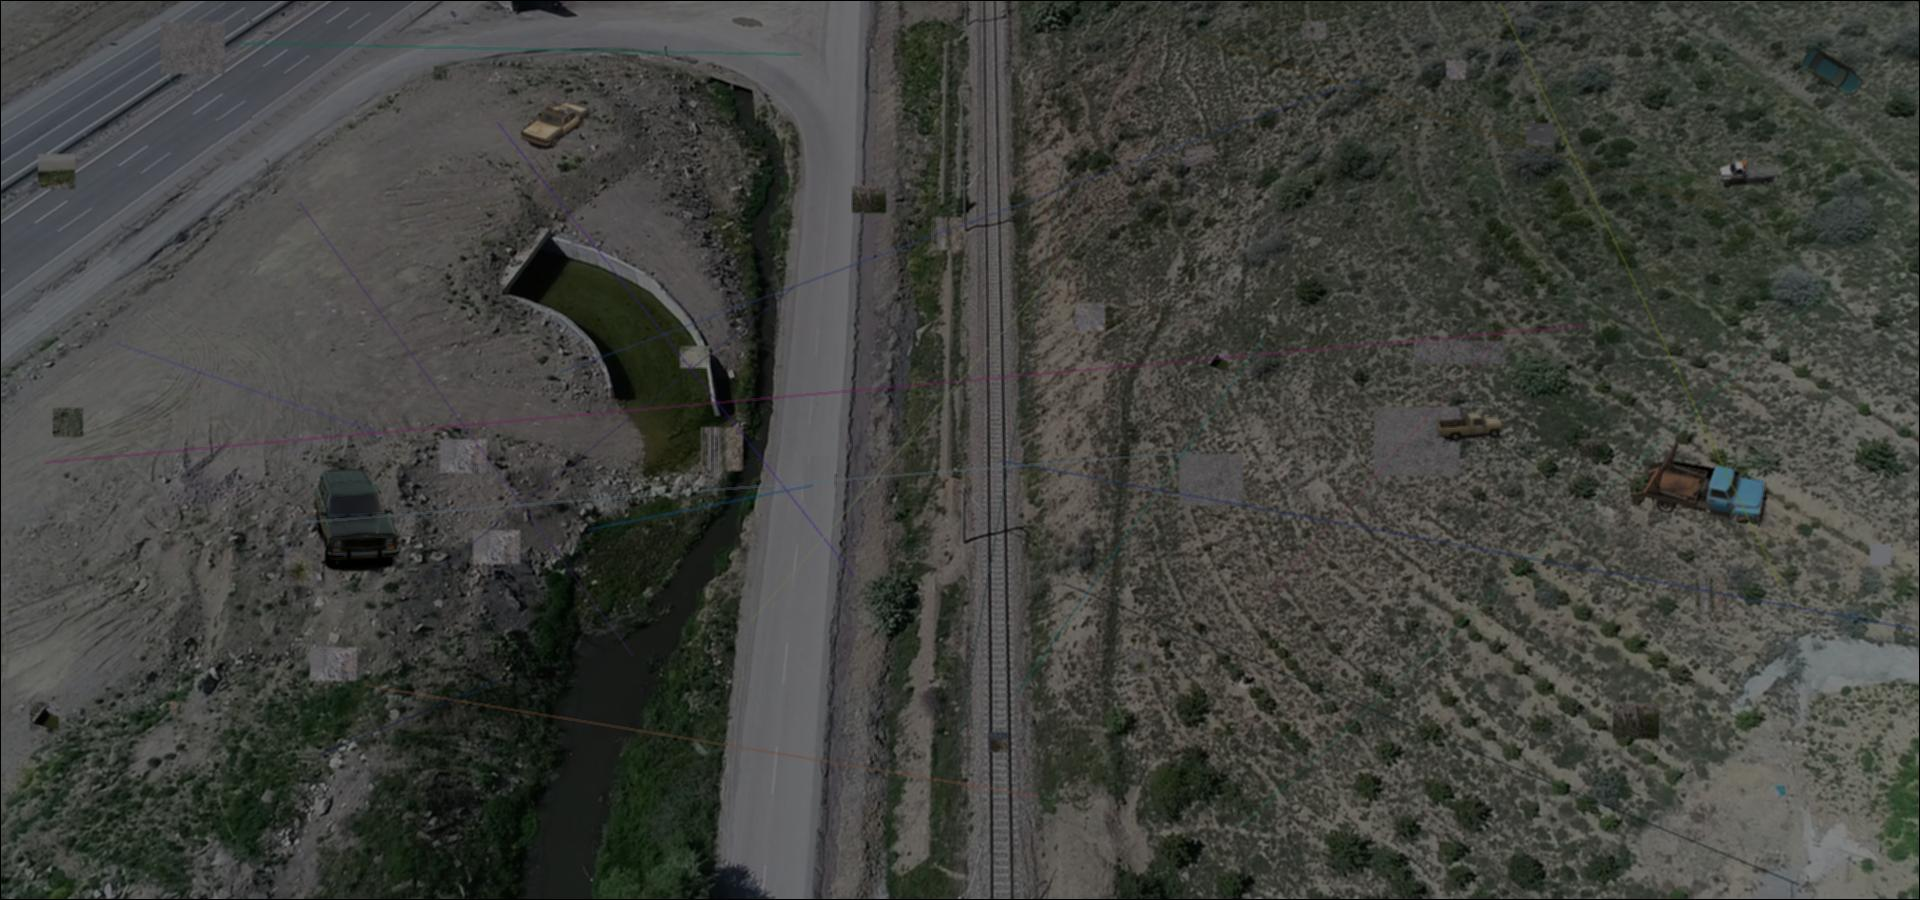arac: (1625, 440, 1768, 529), (309, 467, 400, 572), (520, 100, 591, 153), (1800, 47, 1862, 96), (1438, 411, 1504, 444), (1718, 157, 1780, 189)
